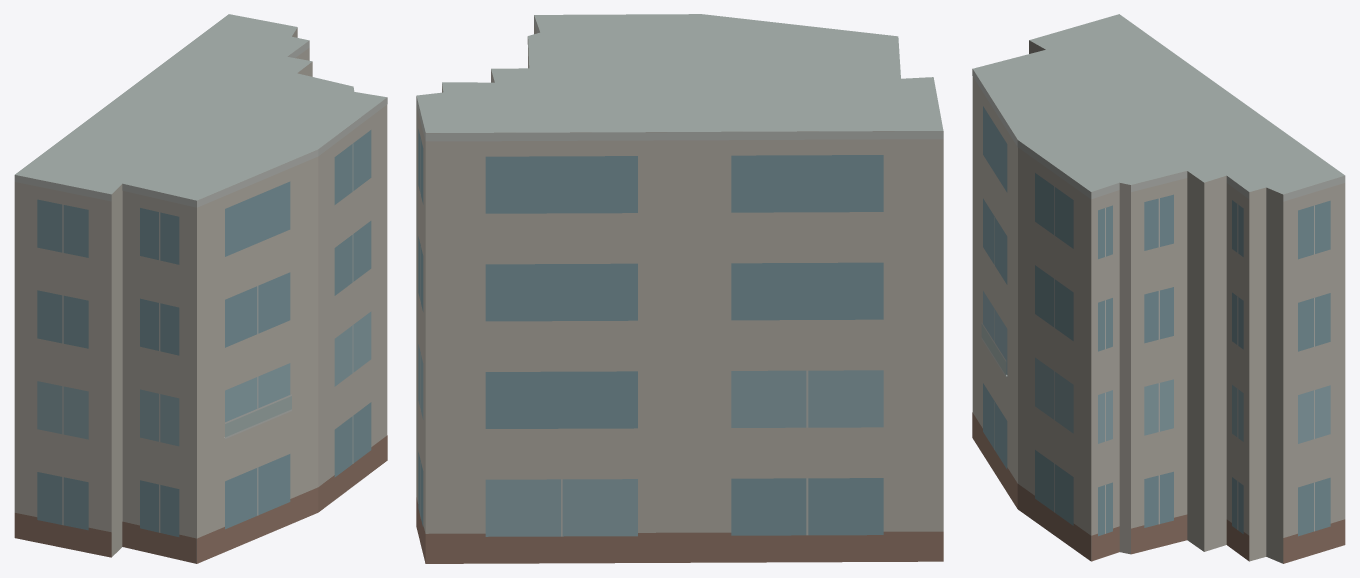
The model's file is survey-upis-32965195.glb.
3 views of the same model, side by side, from view 1: azimuth 30°, elevation 25°; view 2: azimuth 150°, elevation 25°; view 3: azimuth 270°, elevation 25° (orthographic). The views are drawn at different scales.
Parts seen in each view (by area): view 1: survey-upis-32965195.tmp; view 2: survey-upis-32965195.tmp; view 3: survey-upis-32965195.tmp.
Boxes of the visible parts, x1,y1,x2,y2 form: survey-upis-32965195.tmp: (14,14,387,563); survey-upis-32965195.tmp: (416,14,943,563); survey-upis-32965195.tmp: (972,14,1345,563).
Size of the model in its own units: 13.11 by 12.5 by 11.44.
